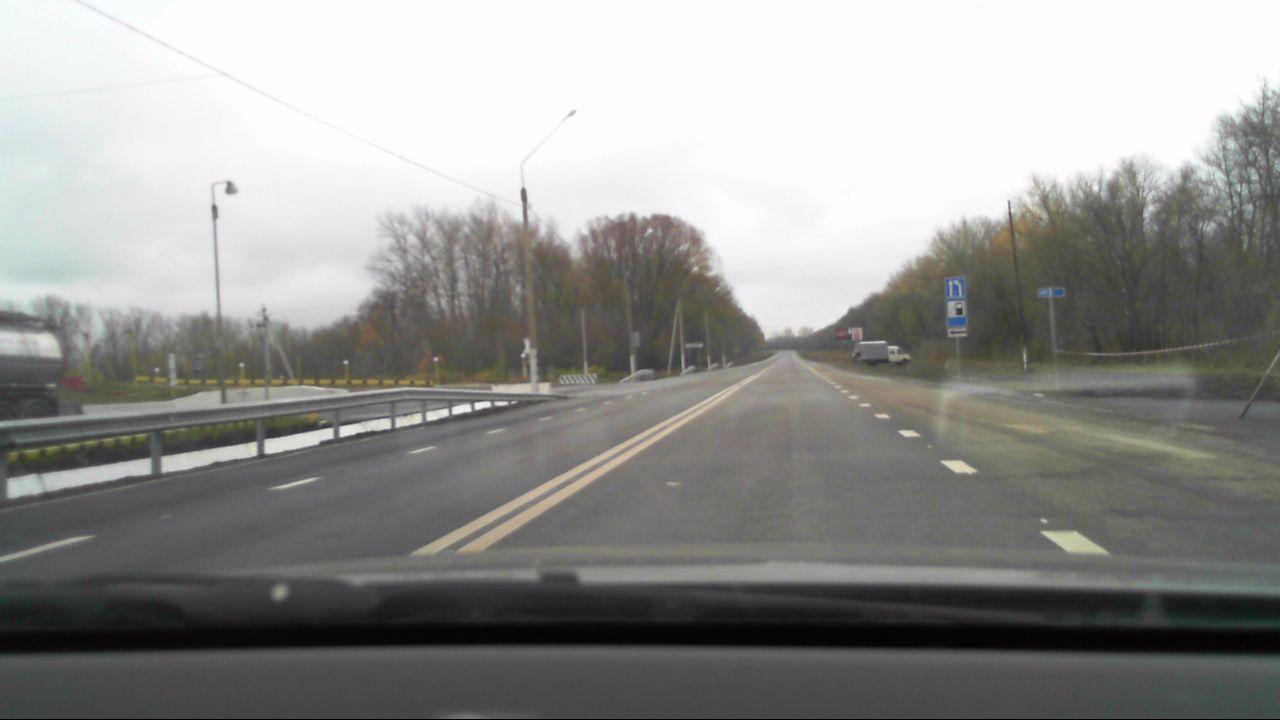5_15_5: (946, 278, 965, 298)
7_3: (947, 300, 967, 324)
8_3_2: (948, 327, 970, 338)
